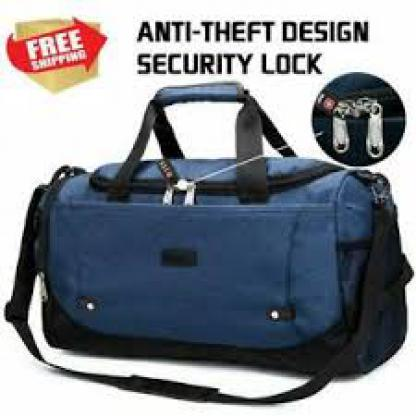morral: (4, 79, 414, 405)
